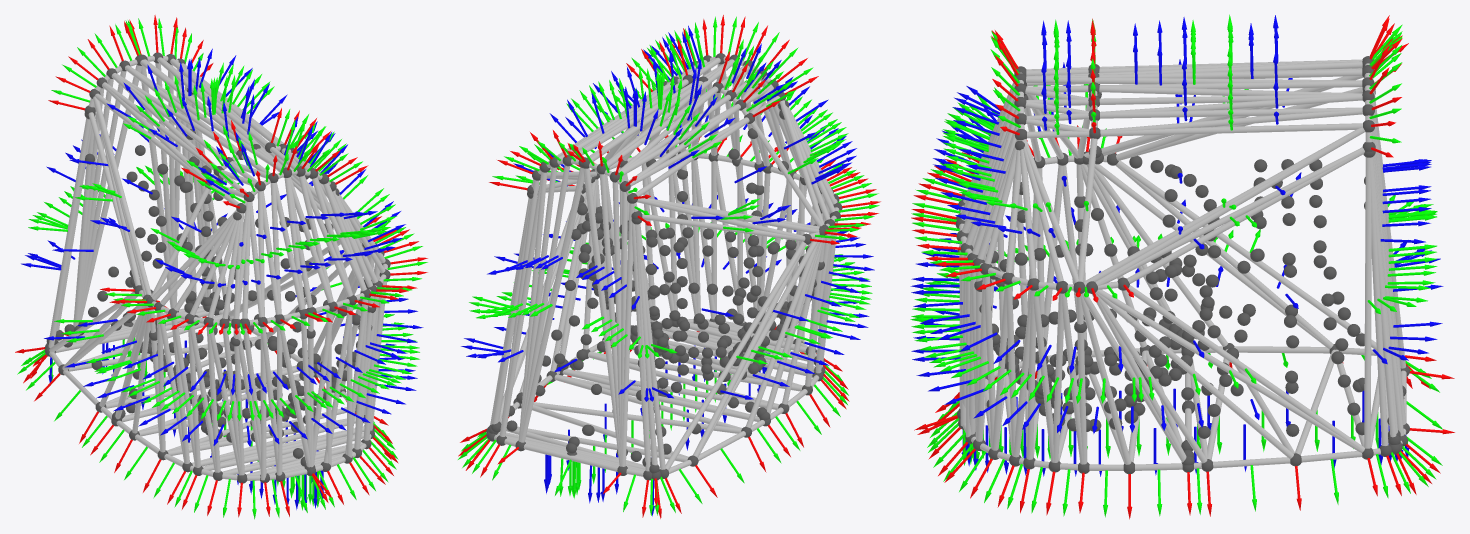
Rendered from t2f_blender.gltf.
3 views of the same model, side by side, from view 1: azimuth 30°, elevation 25°; view 2: azimuth 150°, elevation 25°; view 3: azimuth 270°, elevation 25° (orthographic). The views are drawn at different scales.
Size of the model in its own units: 0.6238 by 0.7308 by 0.8311.
